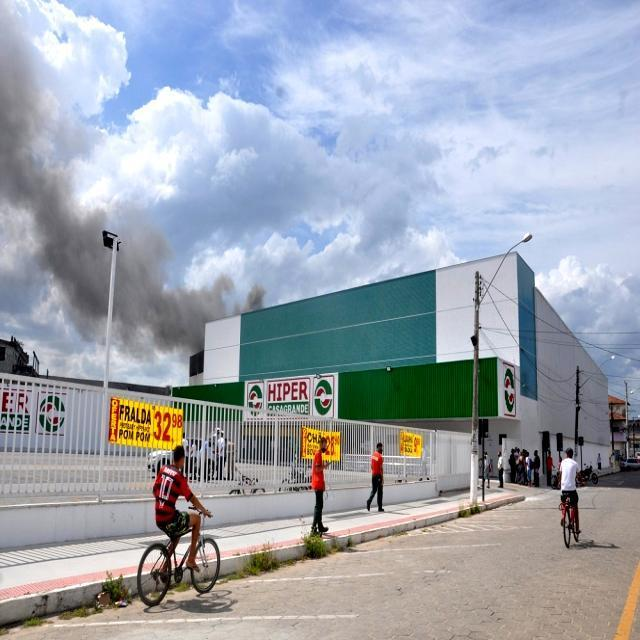Smoke: (1, 156, 214, 367)
